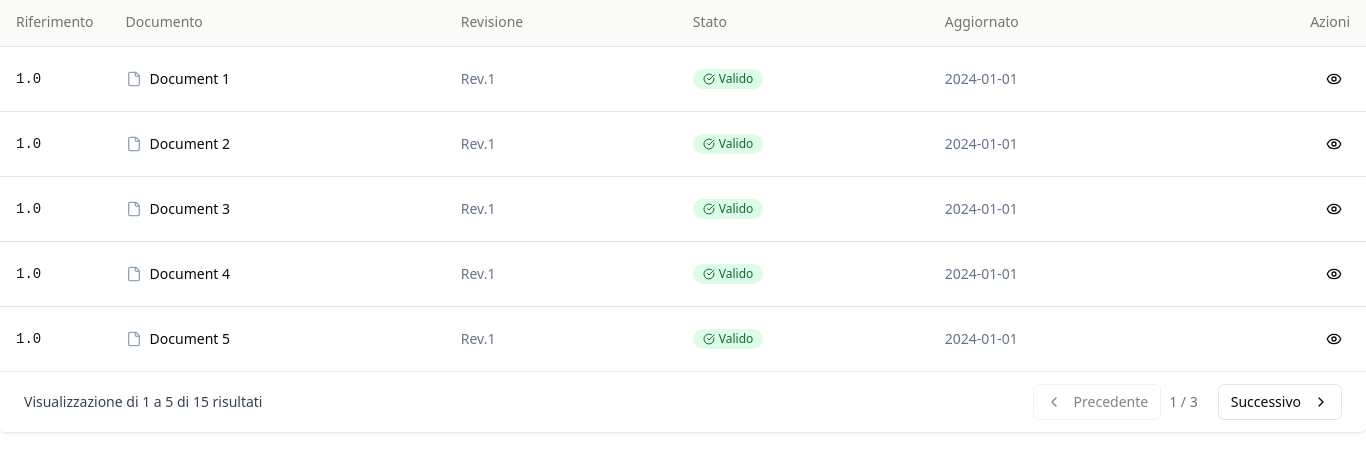
Test: DocumentTable Component Tests › Pagination › should disable next button on last page
Note: Go to last page
Click the button "Successivo" at {"x": 1280, "y": 402}, box [1218, 384, 1342, 420]
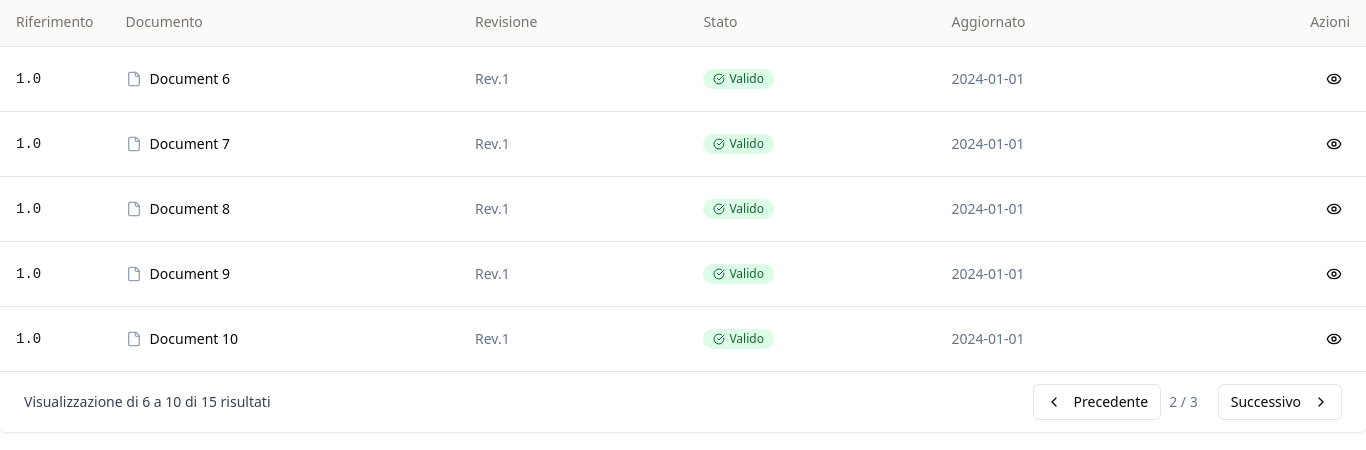
Click the button "Successivo" at {"x": 1280, "y": 402}, box [1218, 384, 1342, 420]
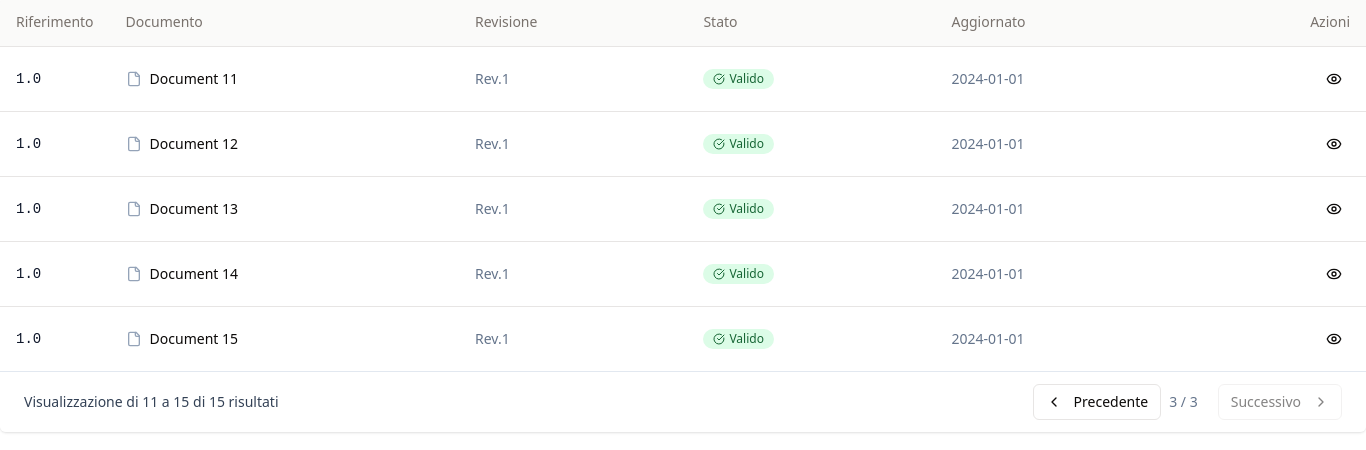
Result: the button "Successivo" is disabled at [1218, 384, 1342, 420]
